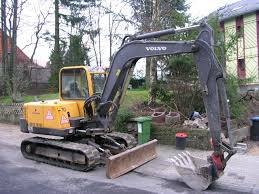excavator: (21, 23, 235, 192)
